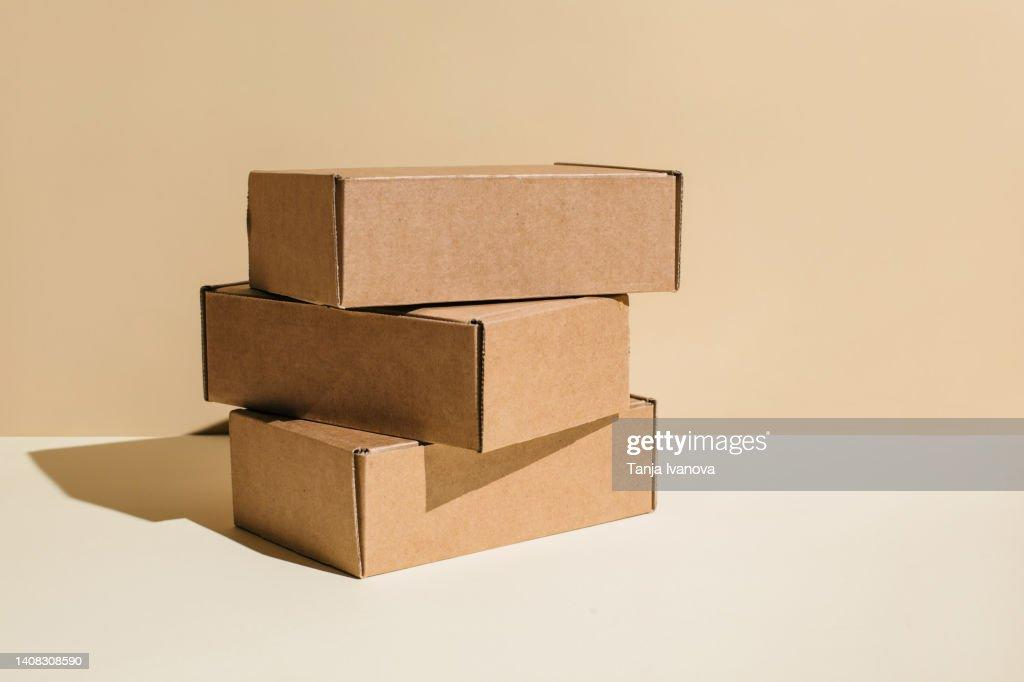Box: (202, 284, 630, 451), (230, 410, 654, 577), (248, 164, 682, 308)
